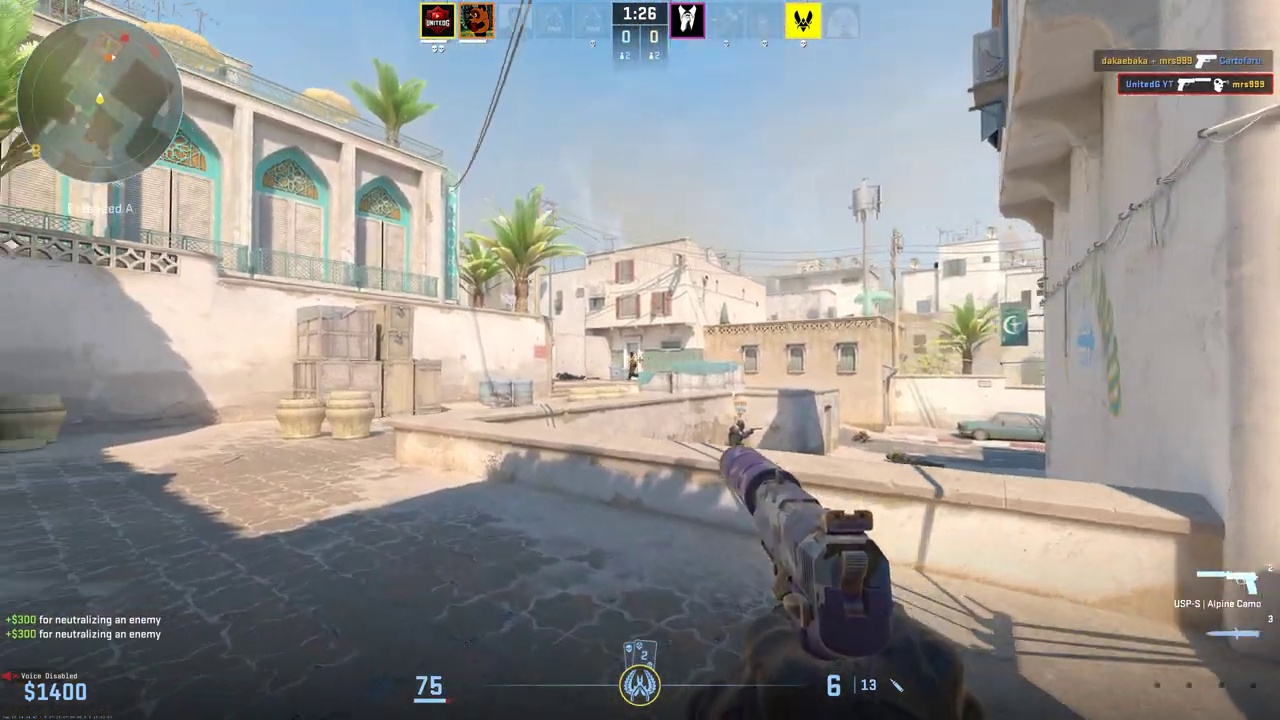CT: (728, 420, 748, 447)
Terrorist: (627, 352, 637, 380)
